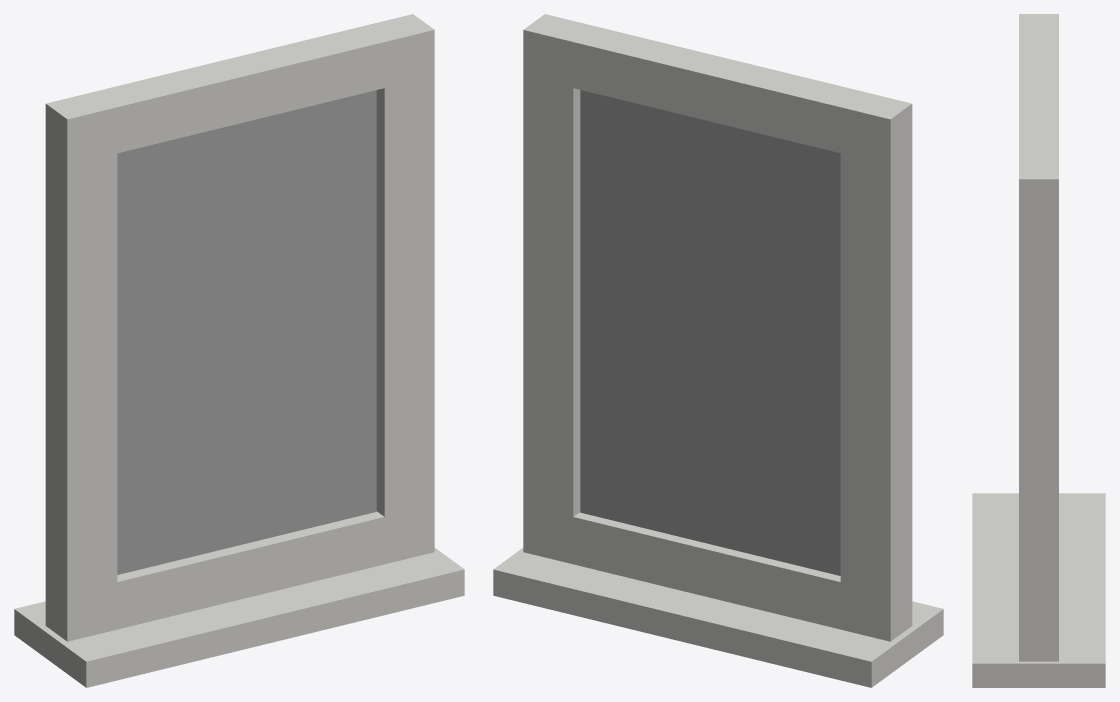
Rendered from Window_4C.fbx.
3 renders of one model, left to right at view 1: azimuth 30°, elevation 25°; view 2: azimuth 150°, elevation 25°; view 3: azimuth 270°, elevation 25°, orthographic. The views are drawn at different scales.
Visible parts, largest first — view 1: polySurface1621, Window_Glass_3; view 2: polySurface1621, Window_Glass_3; view 3: polySurface1621.
Part boxes in pixels (<box>): polySurface1621: <box>14,14,464,687</box>; Window_Glass_3: <box>117,90,376,574</box>; polySurface1621: <box>493,14,943,687</box>; Window_Glass_3: <box>580,90,840,575</box>; polySurface1621: <box>972,14,1105,687</box>.
Size of the model in its own units: 1.51 by 2.09 by 0.5.
2 materials, 1 textured.
